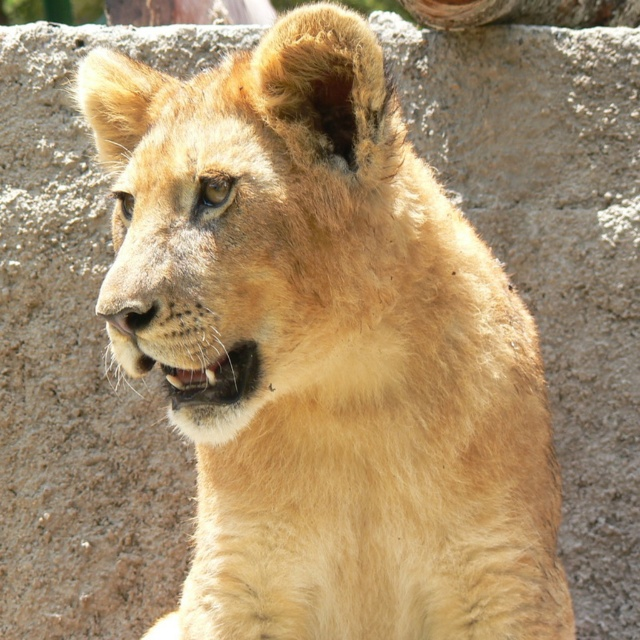Lion: (52, 0, 579, 639)
